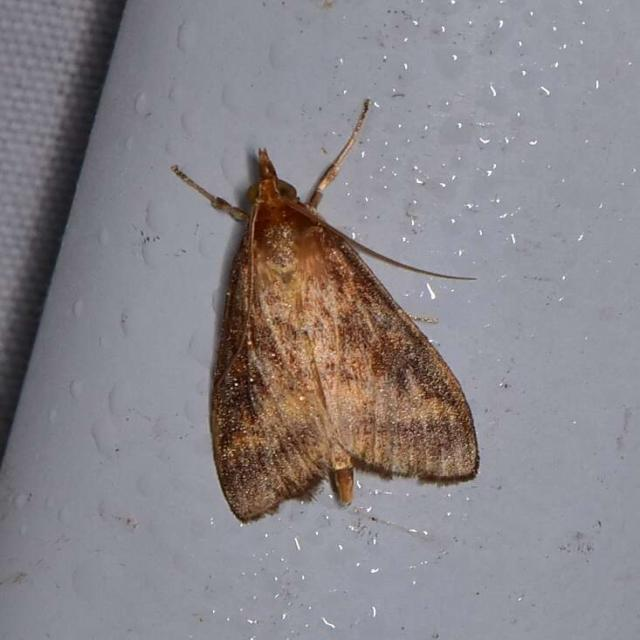cornborer-Adult-: (139, 88, 491, 524)
